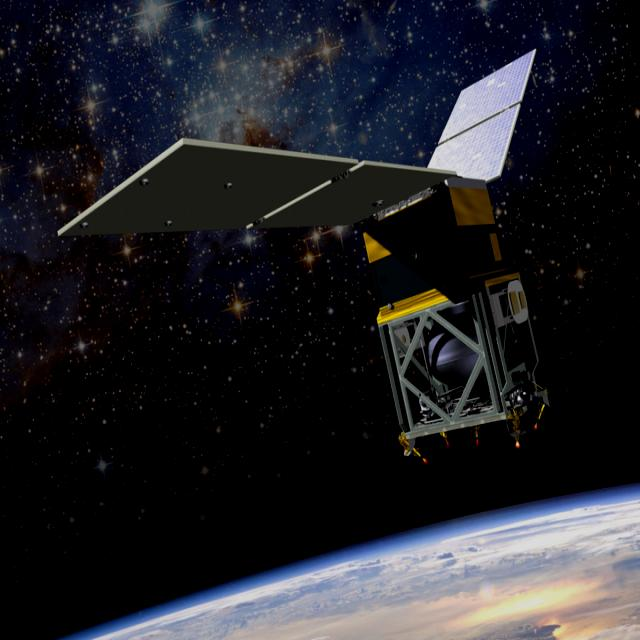medium_debris: (47, 36, 556, 469)
